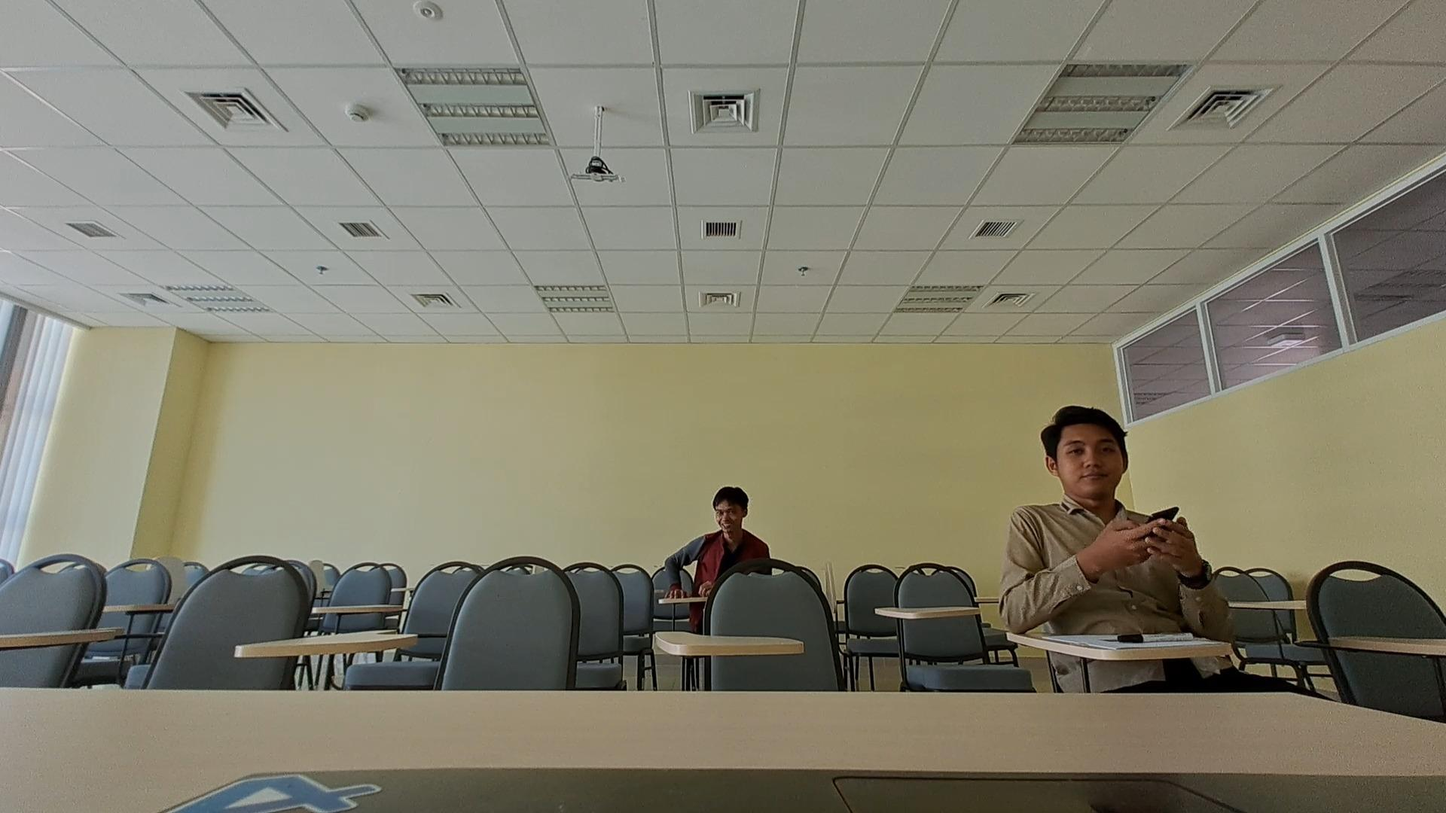phone: (1005, 410, 1213, 629)
